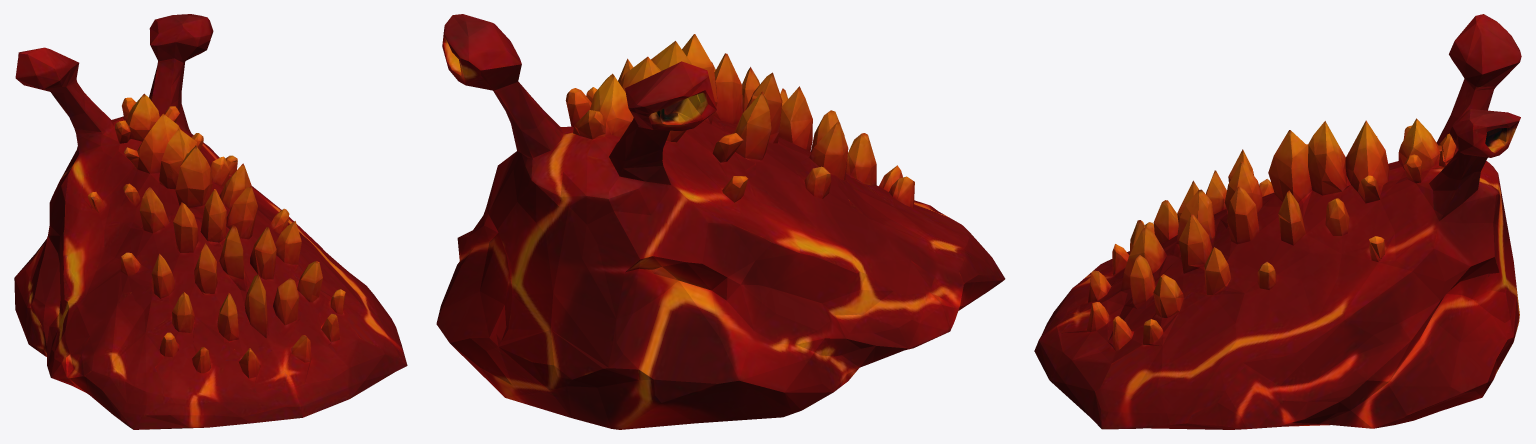
File: monstre_elite_limace.glb
3 renders of one model, left to right at view 1: azimuth 30°, elevation 25°; view 2: azimuth 150°, elevation 25°; view 3: azimuth 270°, elevation 25°, orthographic. The views are drawn at different scales.
Visible parts, largest first — view 1: geometry_0; view 2: geometry_0; view 3: geometry_0.
Boxes of the visible parts, x1,y1,x2,y2 form: geometry_0: [14, 14, 407, 429]; geometry_0: [436, 14, 1005, 429]; geometry_0: [1034, 14, 1521, 429].
Size of the model in its own units: 0.8806 by 0.6981 by 0.9952.
1 material, 1 textured.
